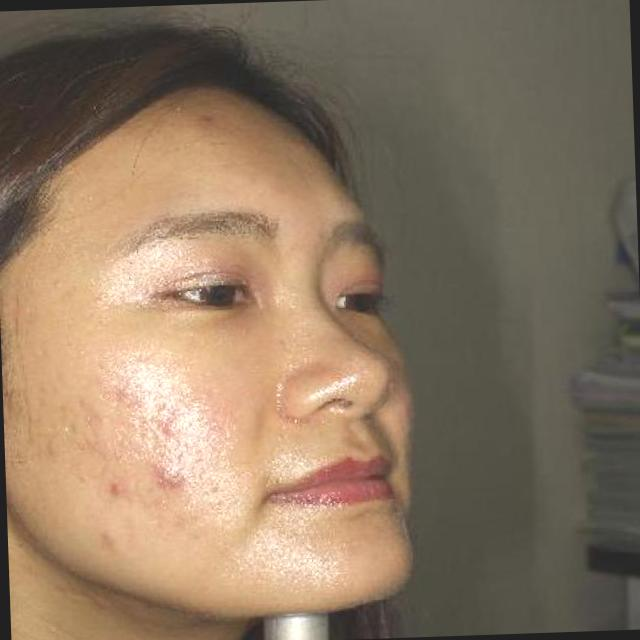nodules: (102, 479, 130, 504), (162, 471, 192, 492), (154, 462, 178, 481)
